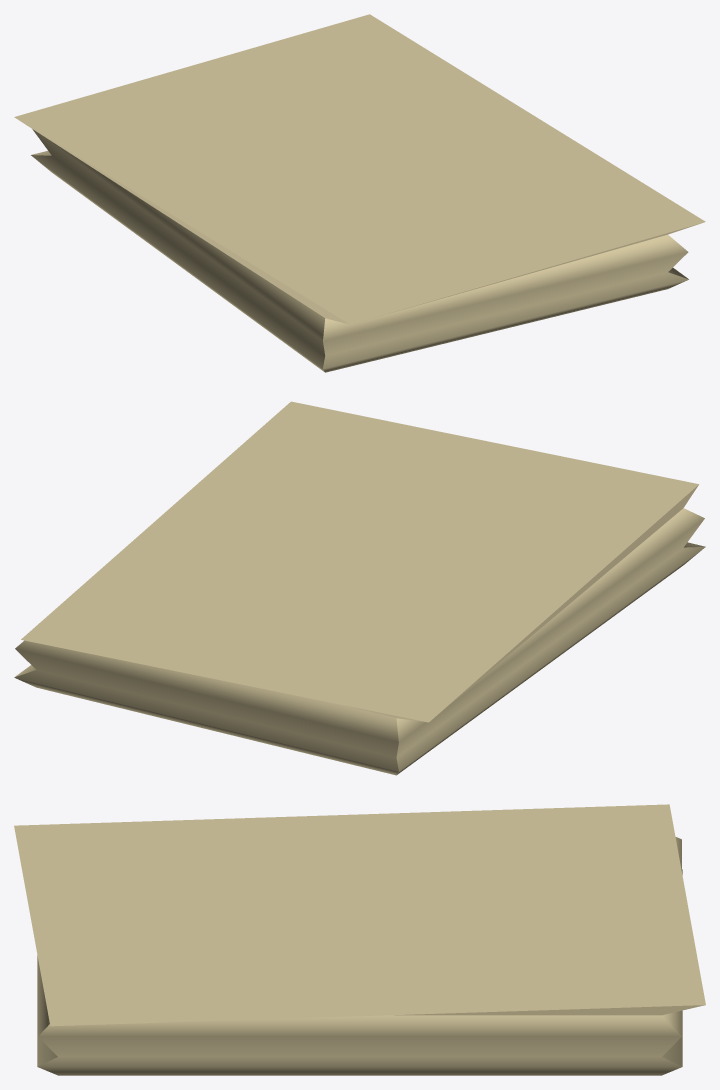
Rendered from SM_PaperStack_01.fbx.
3 renders of one model, top to bottom at view 1: azimuth 30°, elevation 25°; view 2: azimuth 150°, elevation 25°; view 3: azimuth 270°, elevation 25°, orthographic. The views are drawn at different scales.
Parts seen in each view (by area): view 1: SM_PaperStack_01; view 2: SM_PaperStack_01; view 3: SM_PaperStack_01.
Part boxes in pixels (<box>): SM_PaperStack_01: <box>14,14,705,372</box>; SM_PaperStack_01: <box>14,401,705,775</box>; SM_PaperStack_01: <box>14,804,705,1075</box>.
Bounding box in the file's own units: 25.22 × 3.59 × 33.24.
